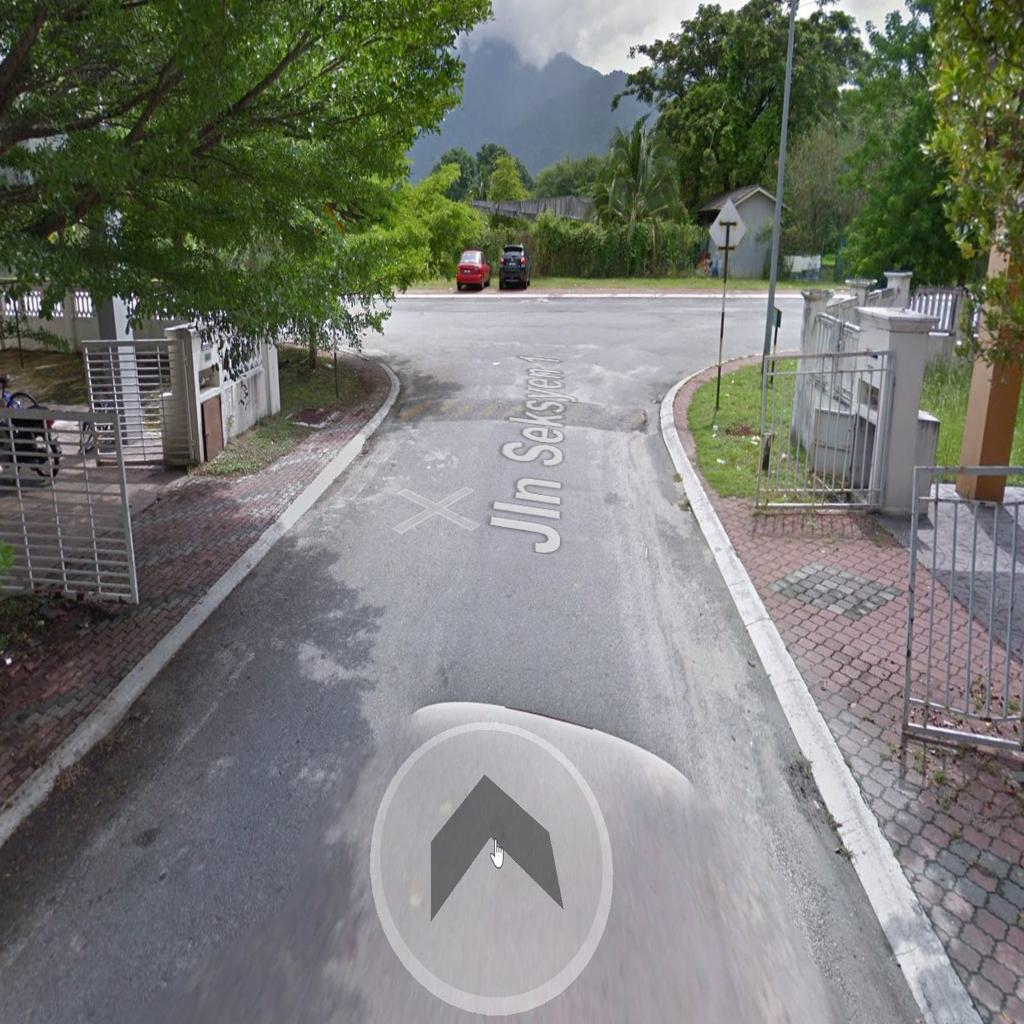Junction: (260, 264, 440, 399), (637, 277, 800, 413)
